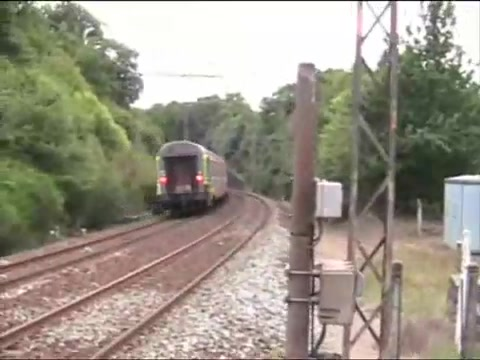train: (150, 140, 231, 216)
